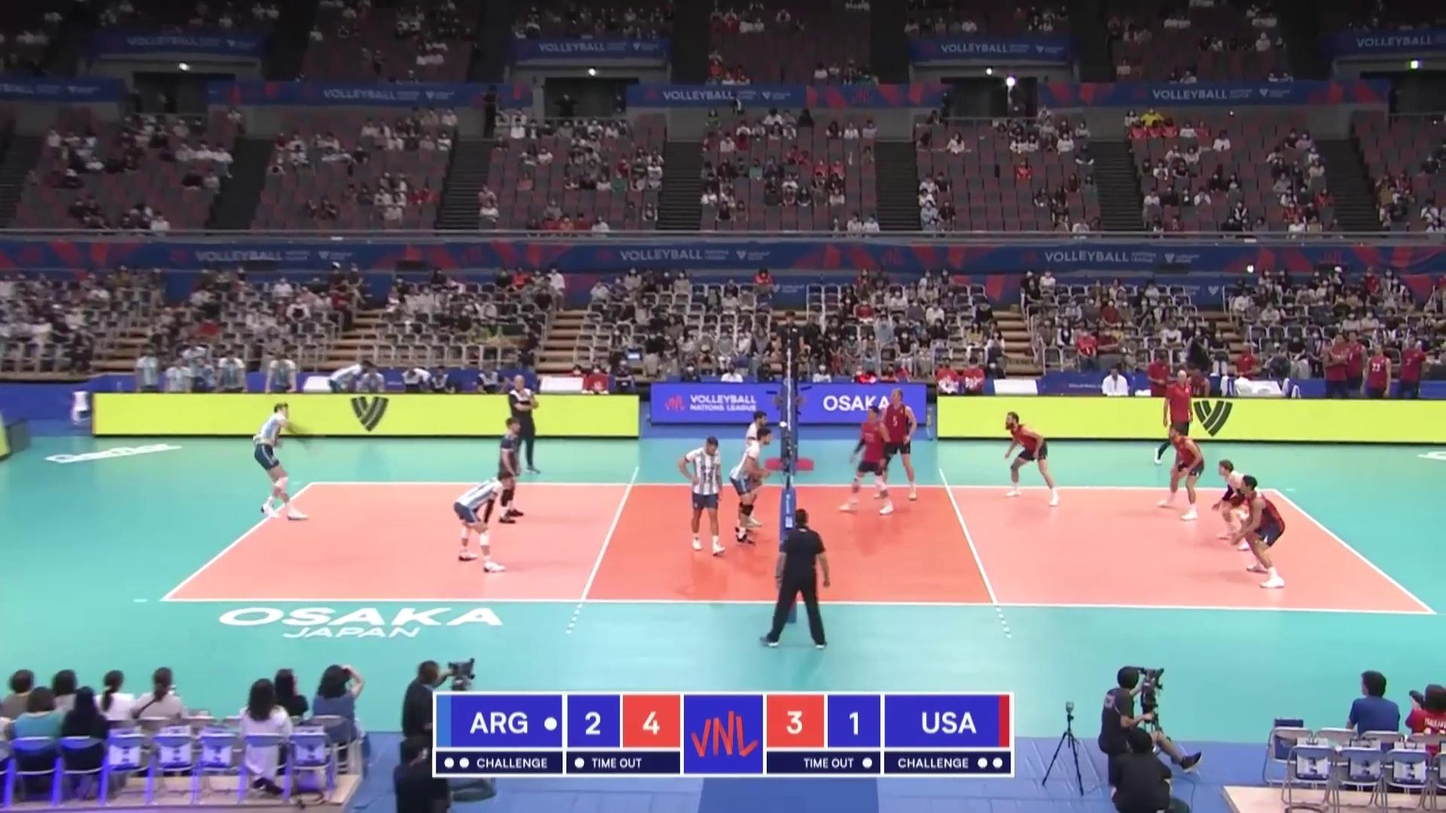player: (253, 402, 312, 522), (451, 473, 515, 574), (1237, 476, 1289, 593), (678, 437, 724, 555), (1001, 413, 1061, 503), (846, 403, 891, 514), (730, 428, 772, 545), (1211, 459, 1261, 546), (878, 389, 917, 500), (490, 417, 528, 523), (1161, 425, 1204, 518), (736, 411, 768, 527)
refree: (762, 509, 832, 646), (776, 313, 804, 391)
